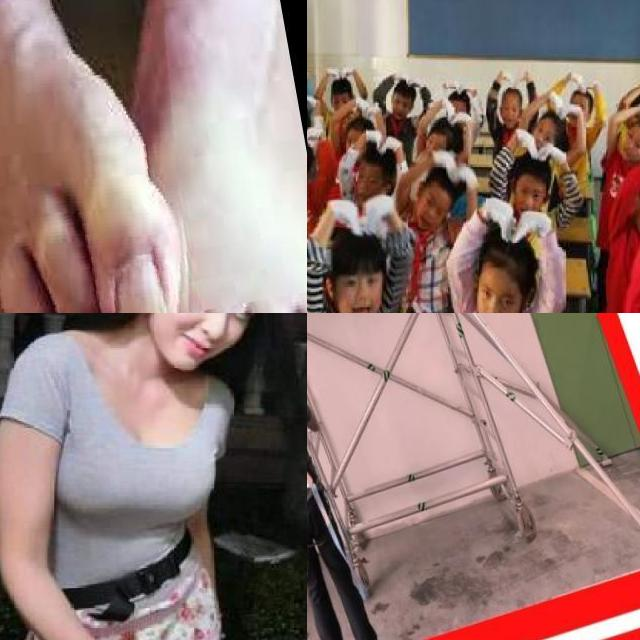Barefoots: (89, 0, 307, 313), (0, 0, 183, 313)
Harness: (307, 469, 347, 560)
No_Glasses: (182, 313, 260, 332)
face_nomask: (148, 313, 251, 379), (338, 274, 382, 313), (475, 280, 521, 313), (415, 193, 447, 230)
hand_glove: (479, 194, 516, 246), (360, 184, 393, 238), (328, 194, 365, 240), (511, 208, 547, 249), (429, 146, 458, 180), (513, 121, 537, 160), (539, 135, 563, 166), (363, 123, 382, 155), (383, 131, 402, 163), (560, 101, 585, 120), (440, 90, 454, 122), (550, 89, 564, 117), (449, 104, 464, 126), (356, 91, 368, 118), (307, 123, 320, 146), (393, 69, 408, 88), (329, 64, 346, 80), (408, 74, 425, 90), (307, 86, 317, 109)
person: (0, 313, 307, 640), (446, 198, 575, 313), (307, 196, 424, 313)
